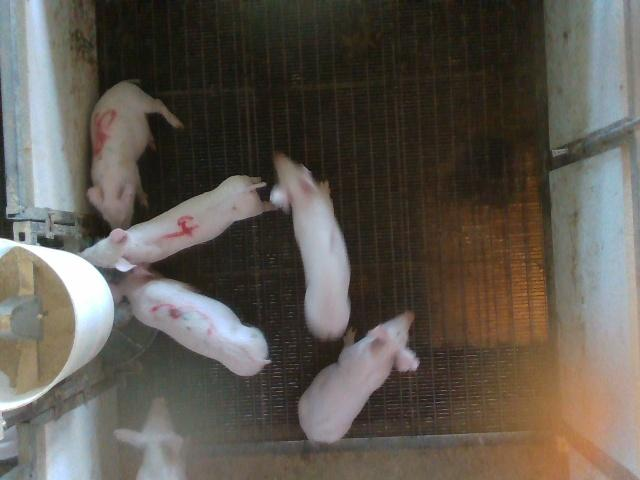pig-2: (270, 152, 350, 339)
pig-3: (110, 264, 270, 376)
pig-4: (80, 176, 273, 271)
pig-5: (88, 81, 182, 229)
